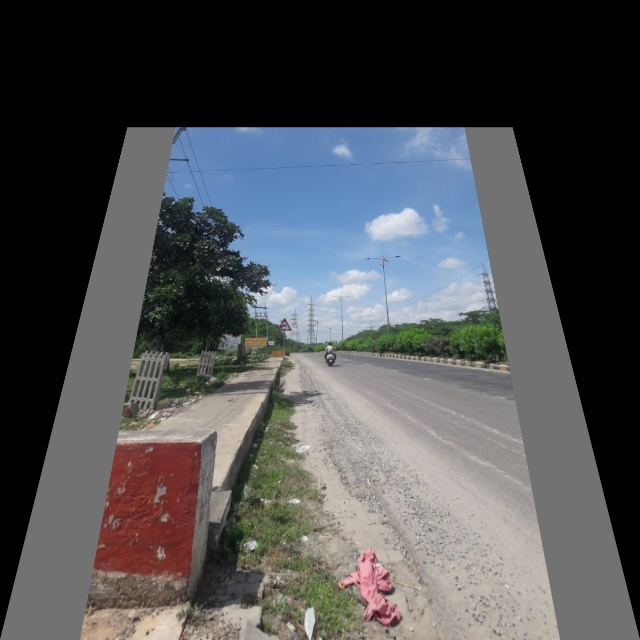Right_Hand_Curve: (277, 318, 290, 331)
